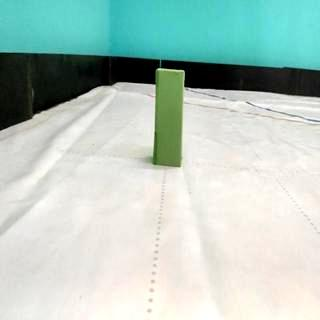greenbox: (152, 66, 185, 168)
